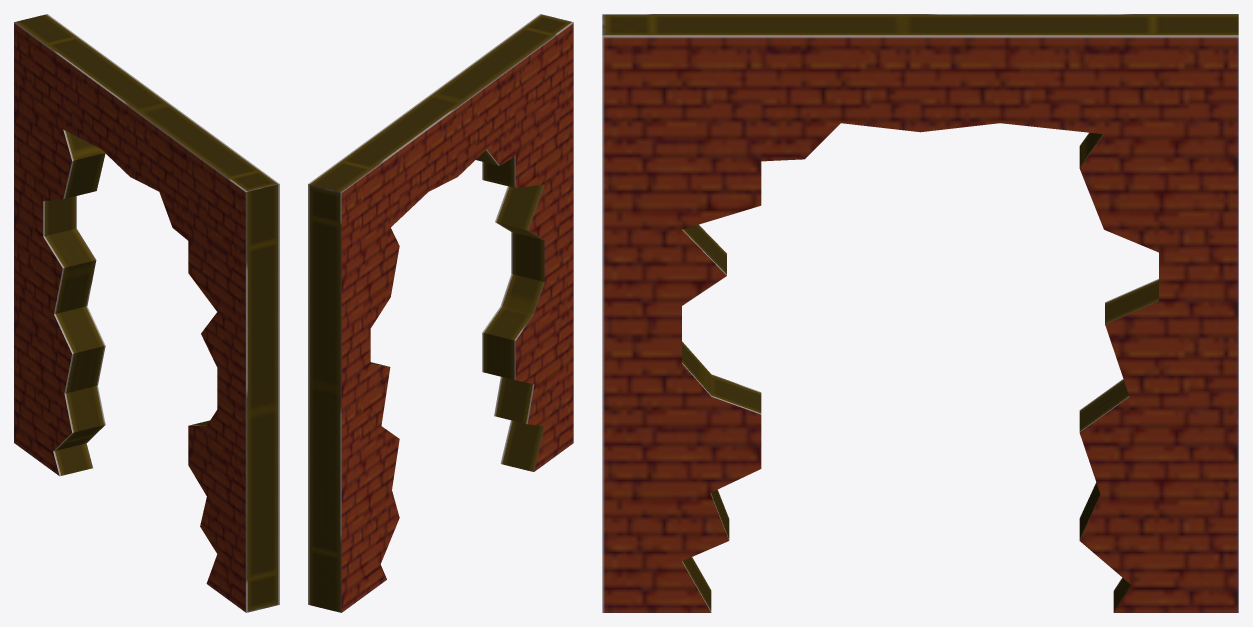
The model's file is Wall_Broken_13.fbx.
The picture shows the model from 3 angles, left to right: view 1: azimuth 30°, elevation 25°; view 2: azimuth 150°, elevation 25°; view 3: azimuth 270°, elevation 25°; orthographic projection. The views are drawn at different scales.
Parts seen in each view (by area): view 1: Wall_Broken_13; view 2: Wall_Broken_13; view 3: Wall_Broken_13.
Part boxes in pixels (<box>): Wall_Broken_13: <box>14,14,279,612</box>; Wall_Broken_13: <box>308,14,573,612</box>; Wall_Broken_13: <box>602,14,1238,612</box>.
Size of the model in its own units: 50 by 600 by 600.
